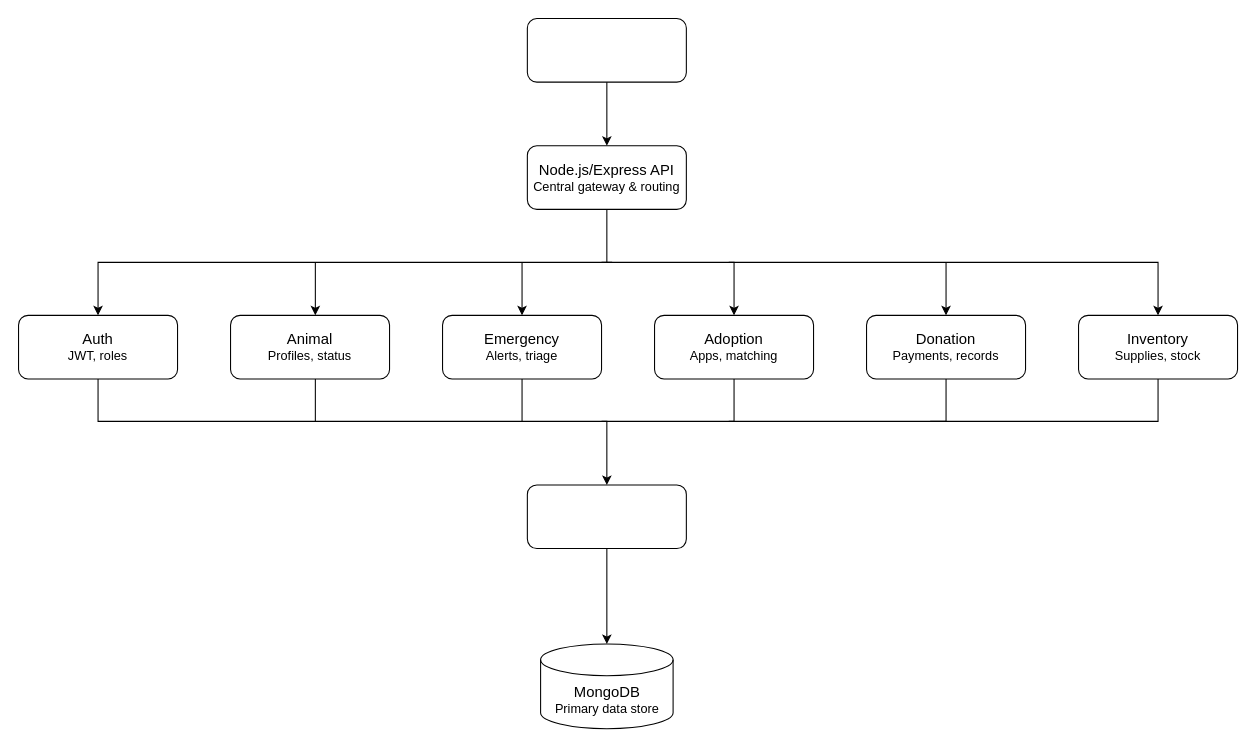
The diagram is 1256 pixels wide and 747 high, and some of its shapes have lost their labels. The centre of each missing label's shape, as x and y in pixels:
Notification service Email, SMS, push alerts: point (606, 516)
React frontend Web/mobile/desktop UI: point (606, 49)
